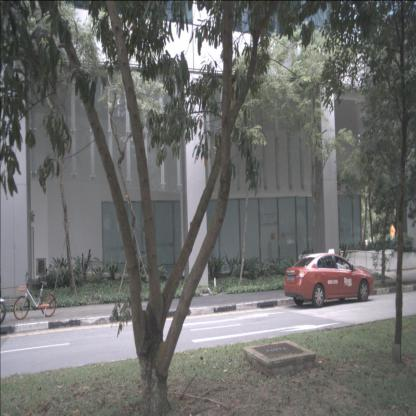vehicle-bicycle: (13, 271, 56, 321)
vehicle-car: (284, 253, 374, 308)
